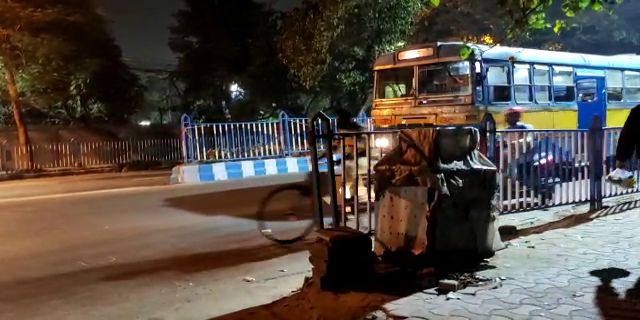Bus: (366, 42, 634, 175)
Cycle: (241, 160, 363, 247)
